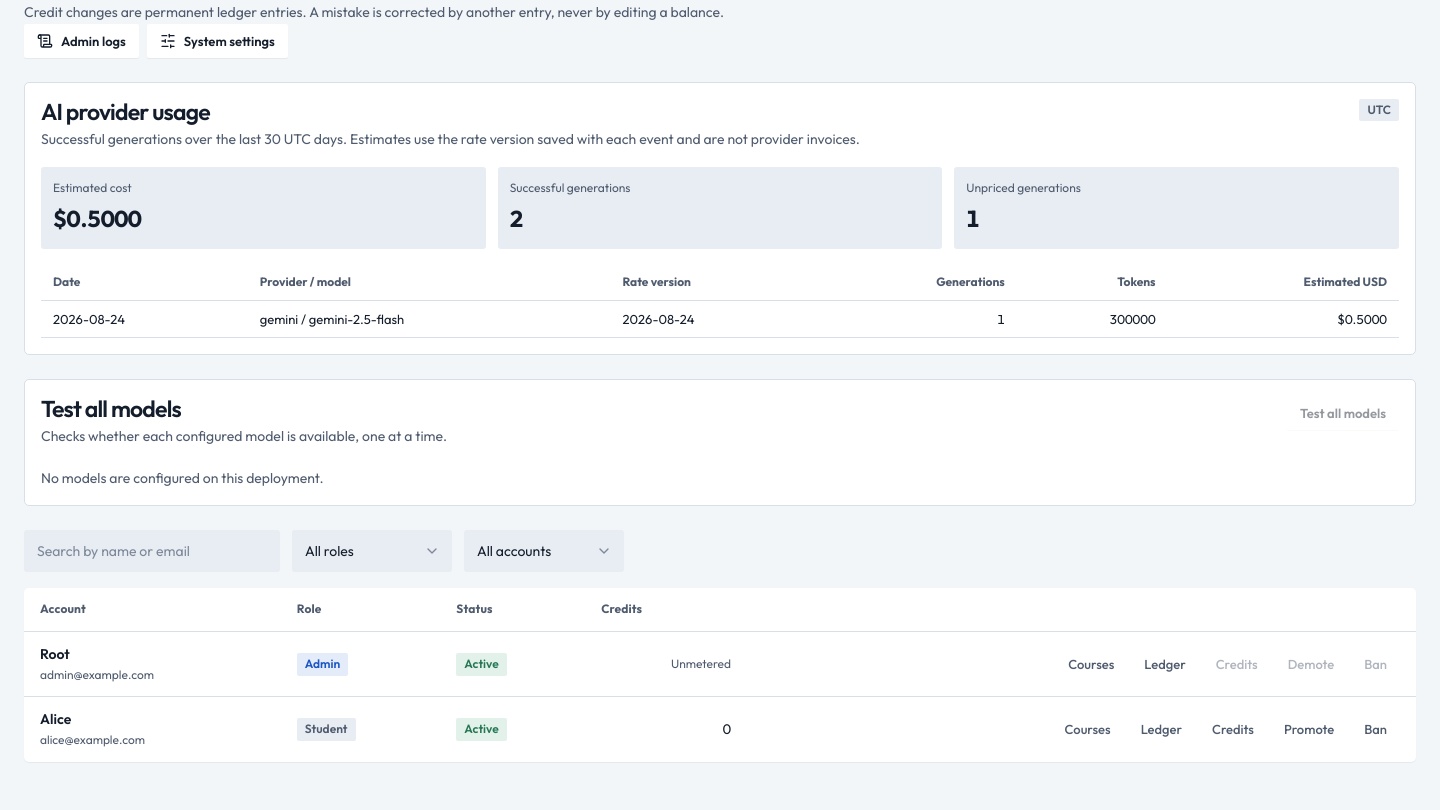
Test case: AdminPage credit administration › applies a signed change and shows the balance it produced
(page scrolled)
Click the button "Credits" in the row of "alice@example.com": (1233, 730) top-left (1199, 712), bottom-right (1267, 746)
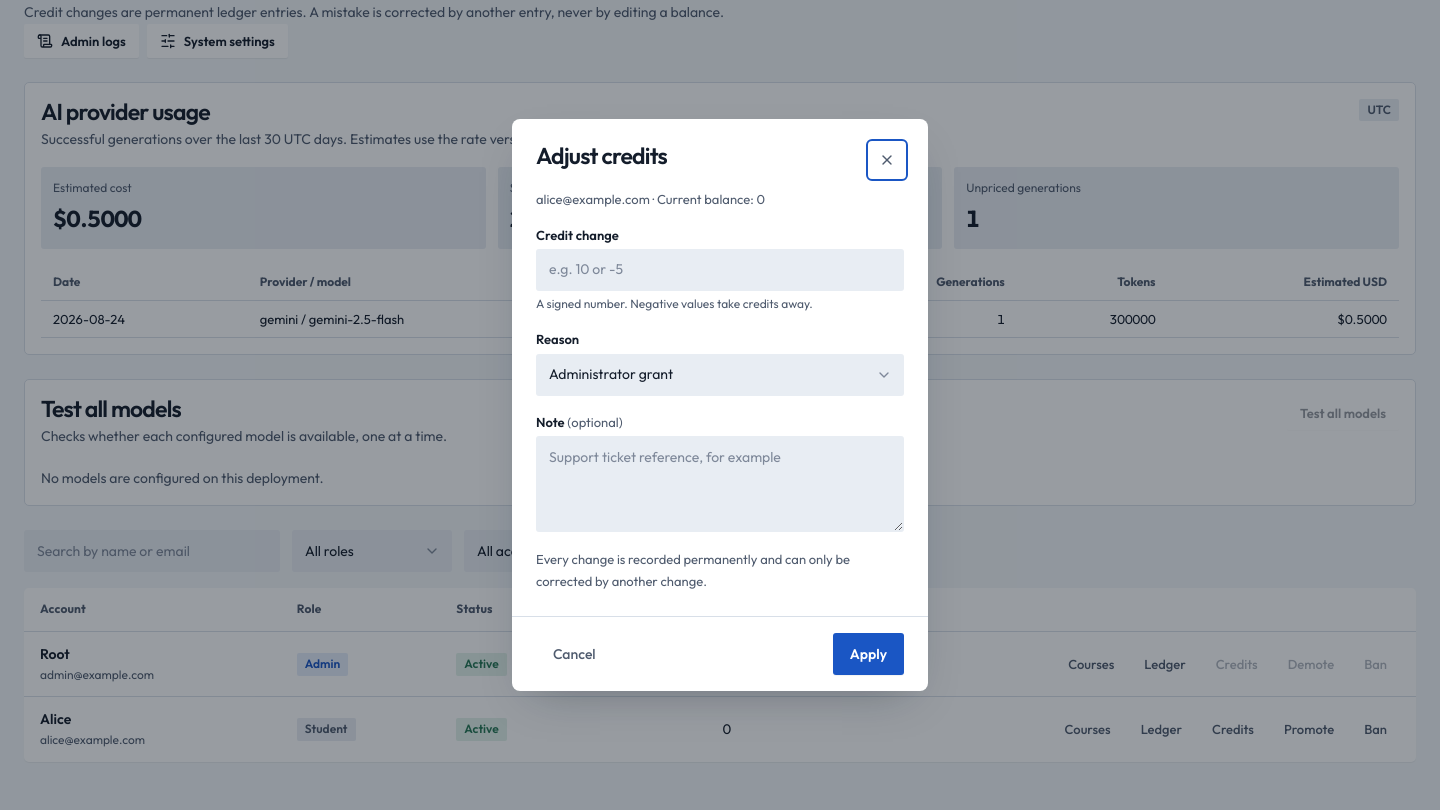
In the field labelled "Credit change": (720, 270) top-left (536, 249), bottom-right (904, 291), type "10"
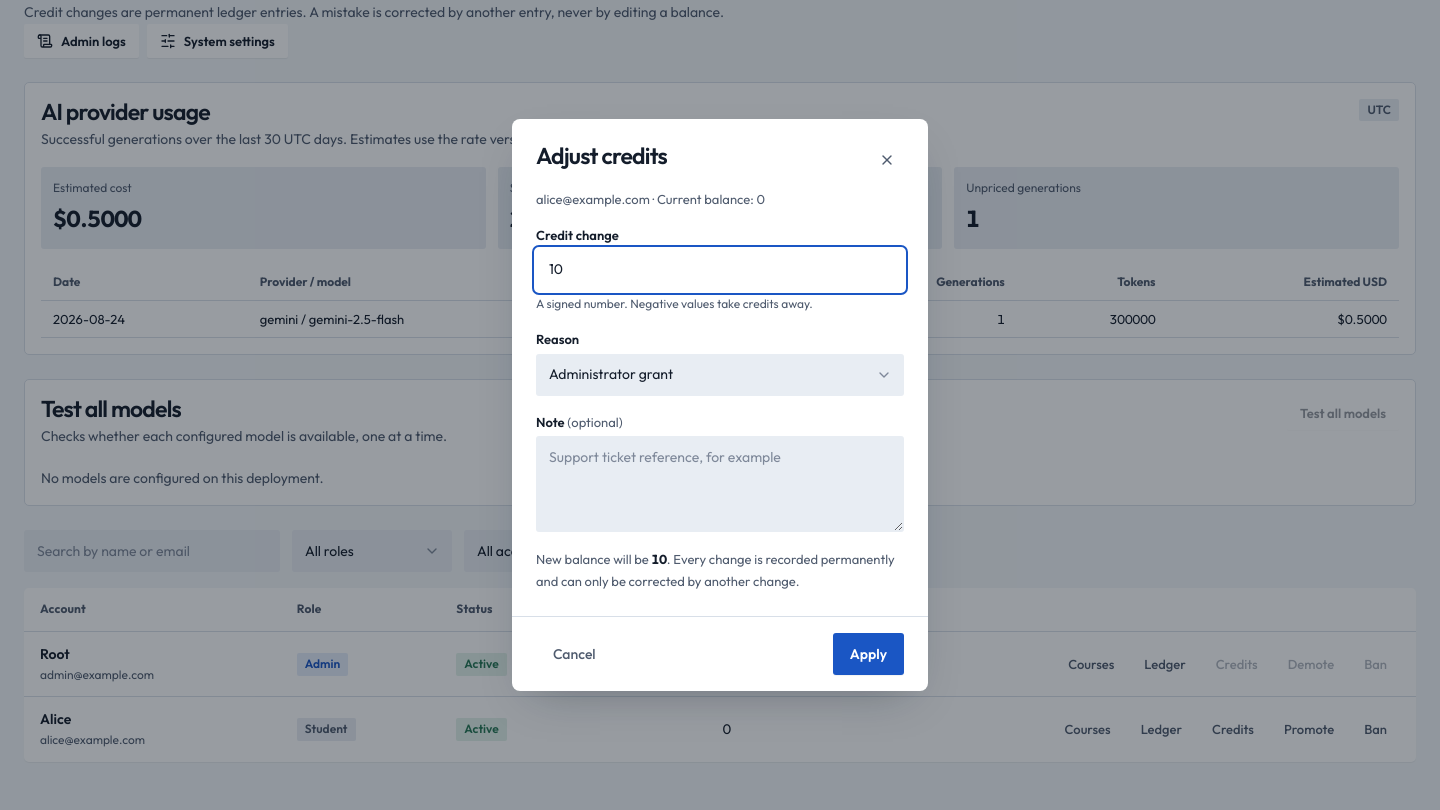
Select "Support compensation" in the dropdown labelled "Reason": (720, 375) top-left (536, 354), bottom-right (904, 396)
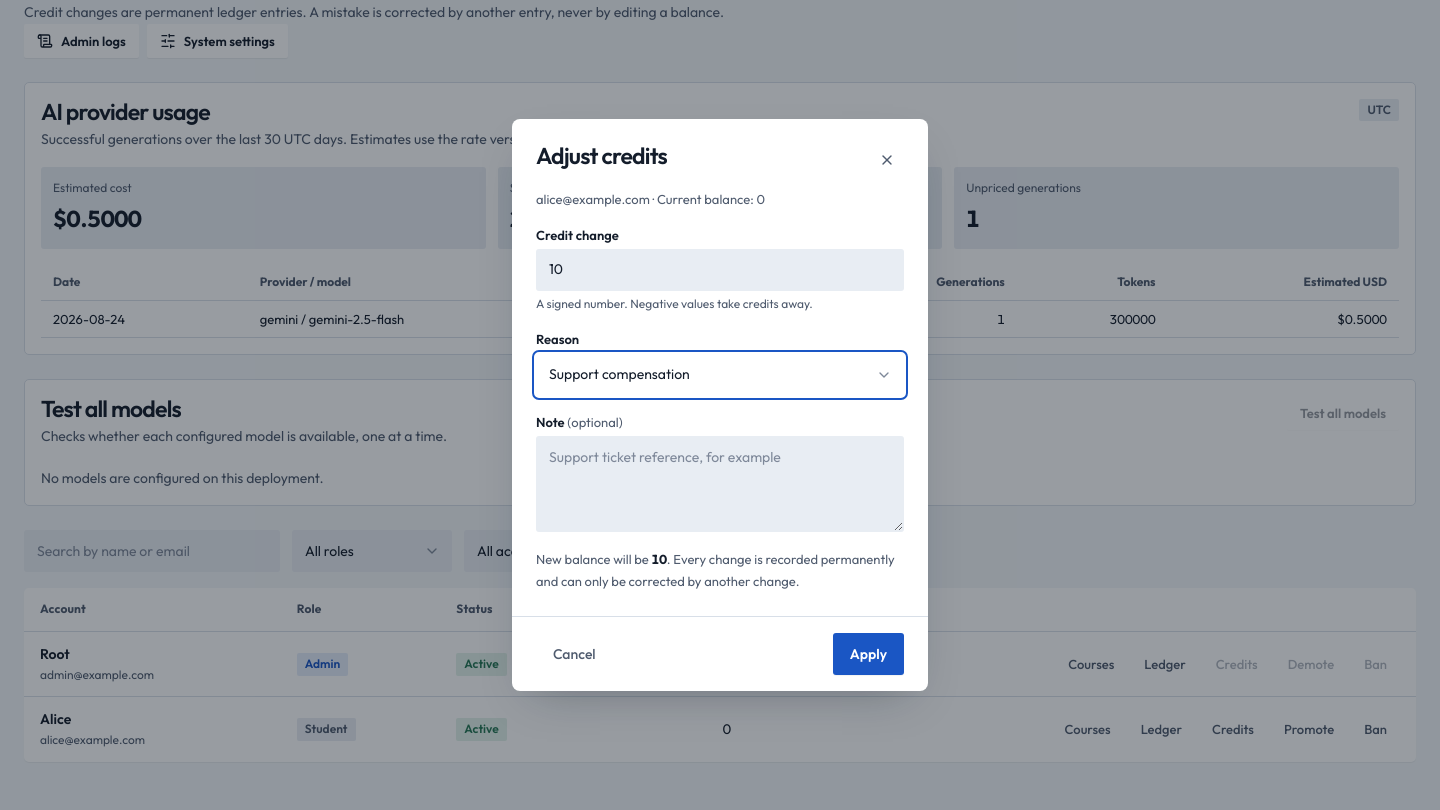
In the text box labelled "Note (optional)": (720, 484) top-left (536, 436), bottom-right (904, 532), type "Outage INC-123"
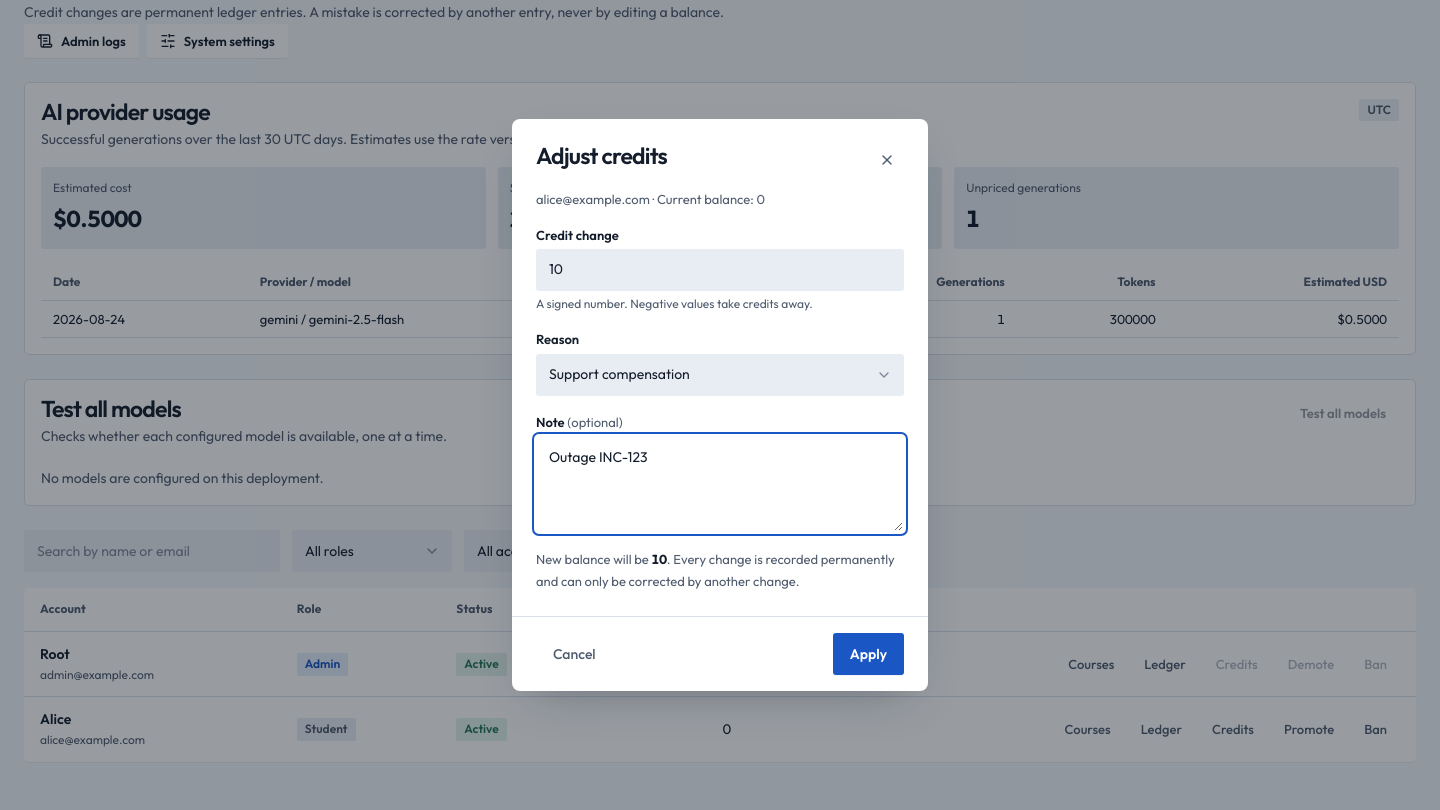
Click the button "Apply": (868, 654) top-left (833, 633), bottom-right (904, 675)
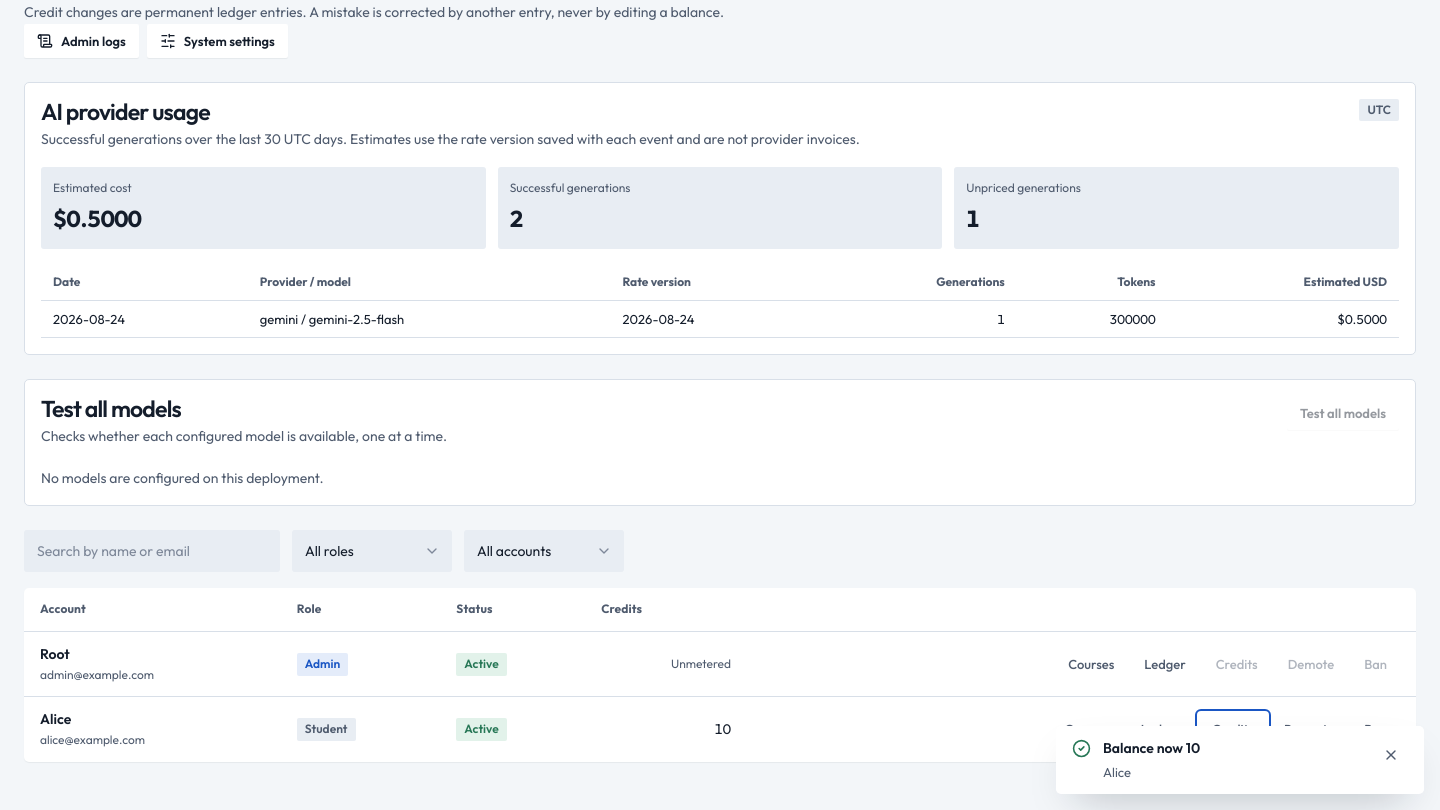
Now the dialog is gone
Now the text "10" is shown, box top-left (585, 697), bottom-right (747, 762)
